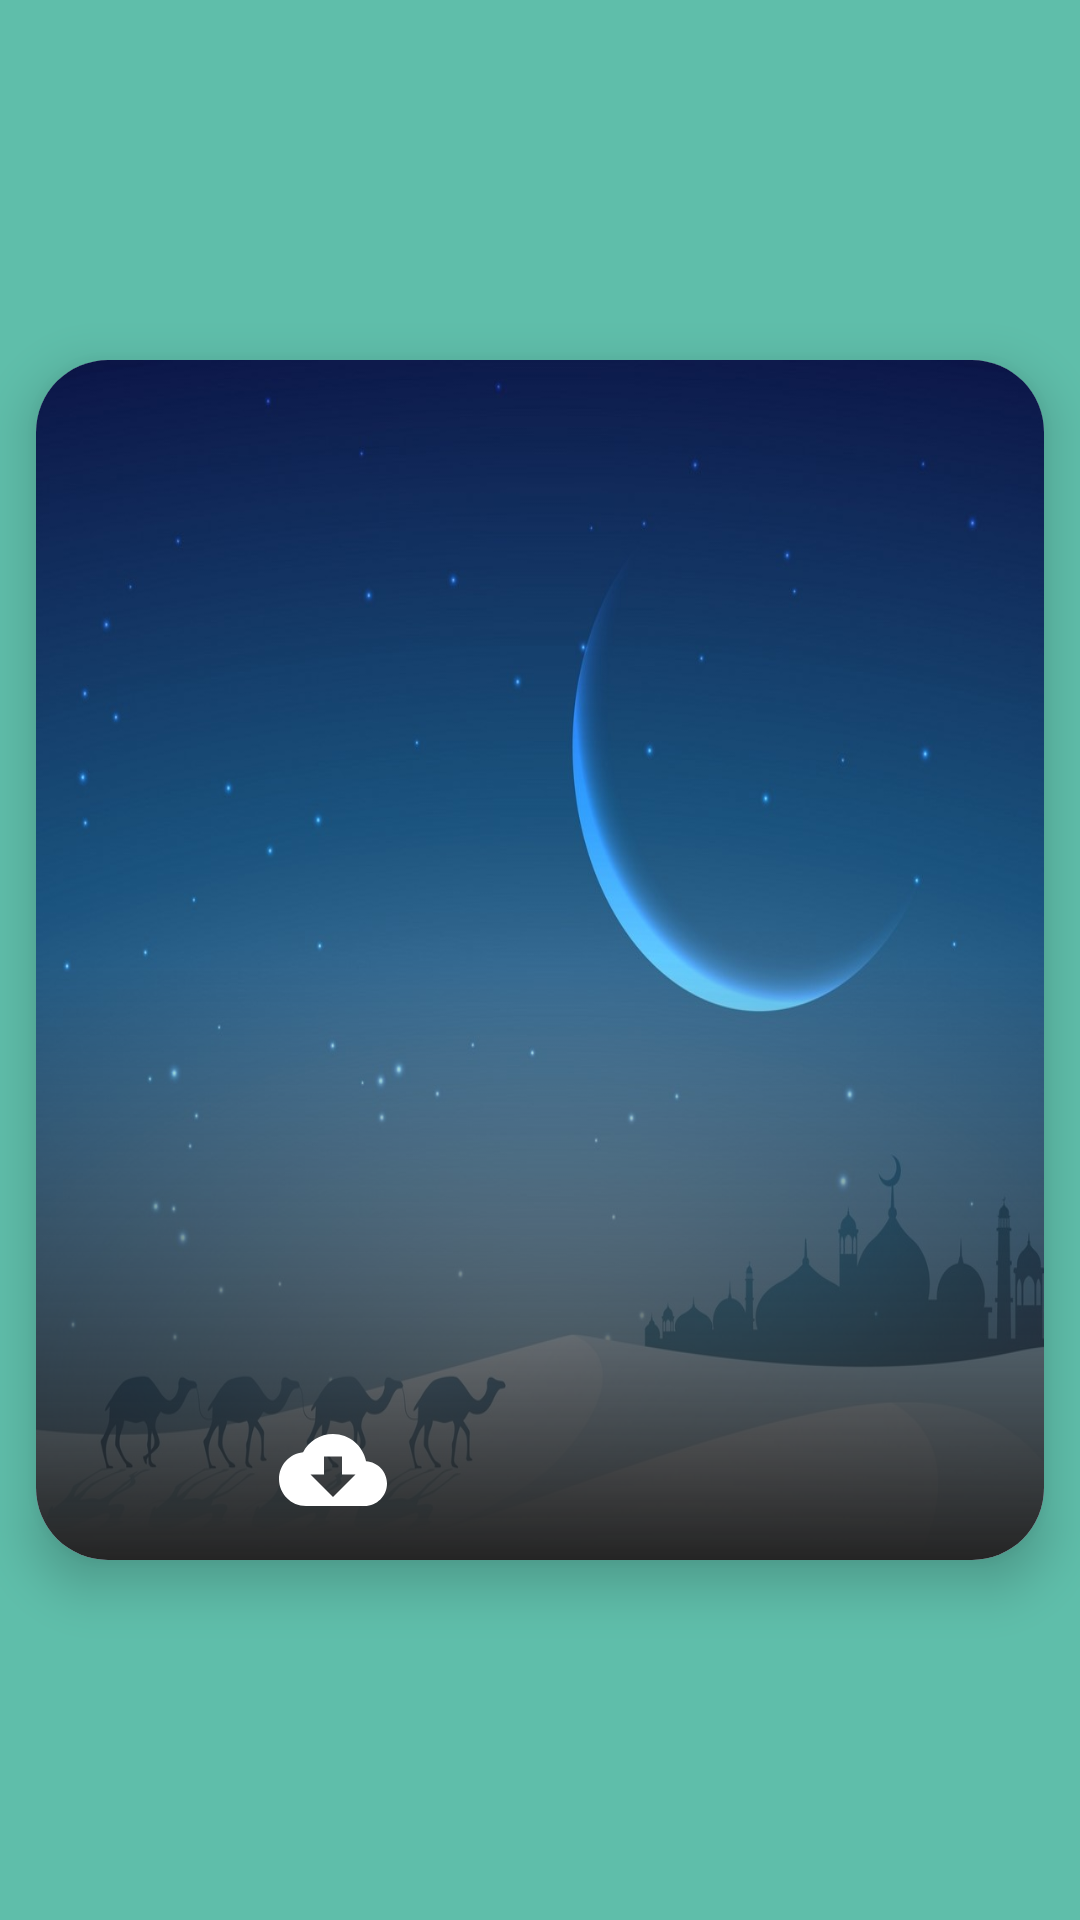

Where icons sit on this 1080*1920 app screen, as [x1, y1, x2, y2]:
download: [243, 1416, 423, 1506]
